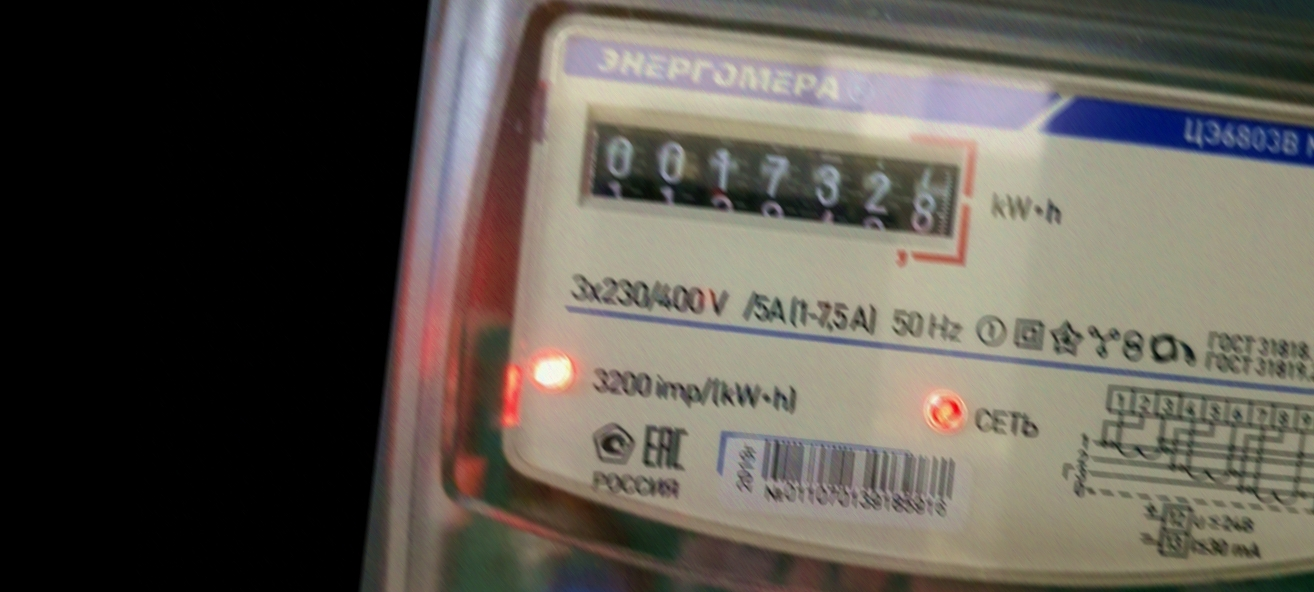0: (603, 132, 640, 180), (657, 136, 691, 184)
1: (710, 143, 737, 192)
2: (861, 167, 896, 215)
3: (813, 160, 845, 207)
7: (760, 151, 792, 200)
8: (909, 188, 939, 233)
screen: (566, 95, 988, 270)
